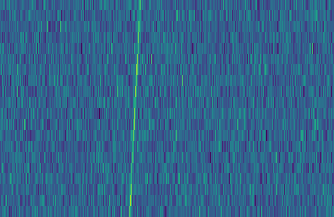signal: (123, 0, 144, 217)
